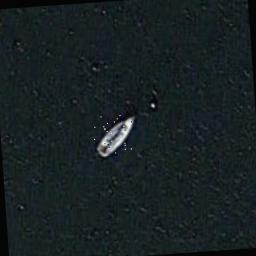boat: (92, 114, 139, 157)
